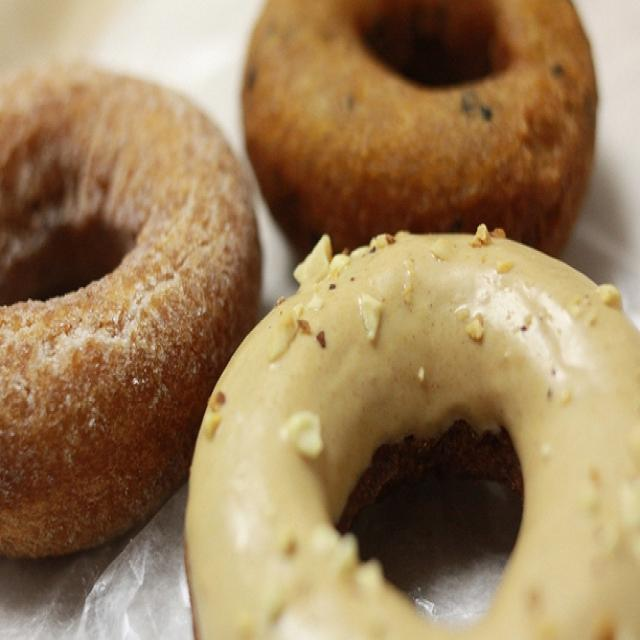炸货点心: (16, 16, 621, 604)
